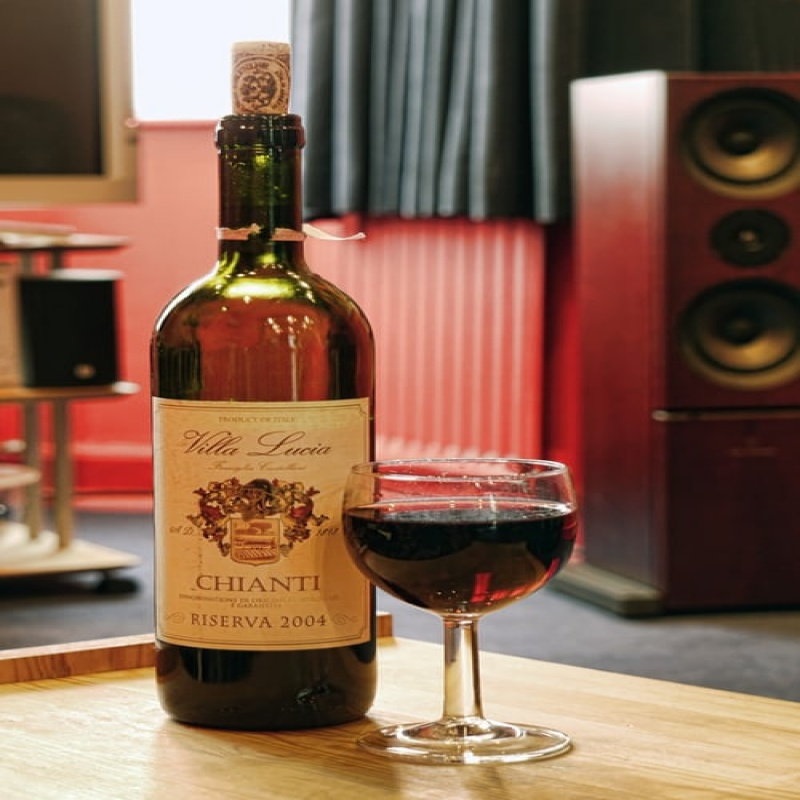wine: (155, 114, 376, 725)
